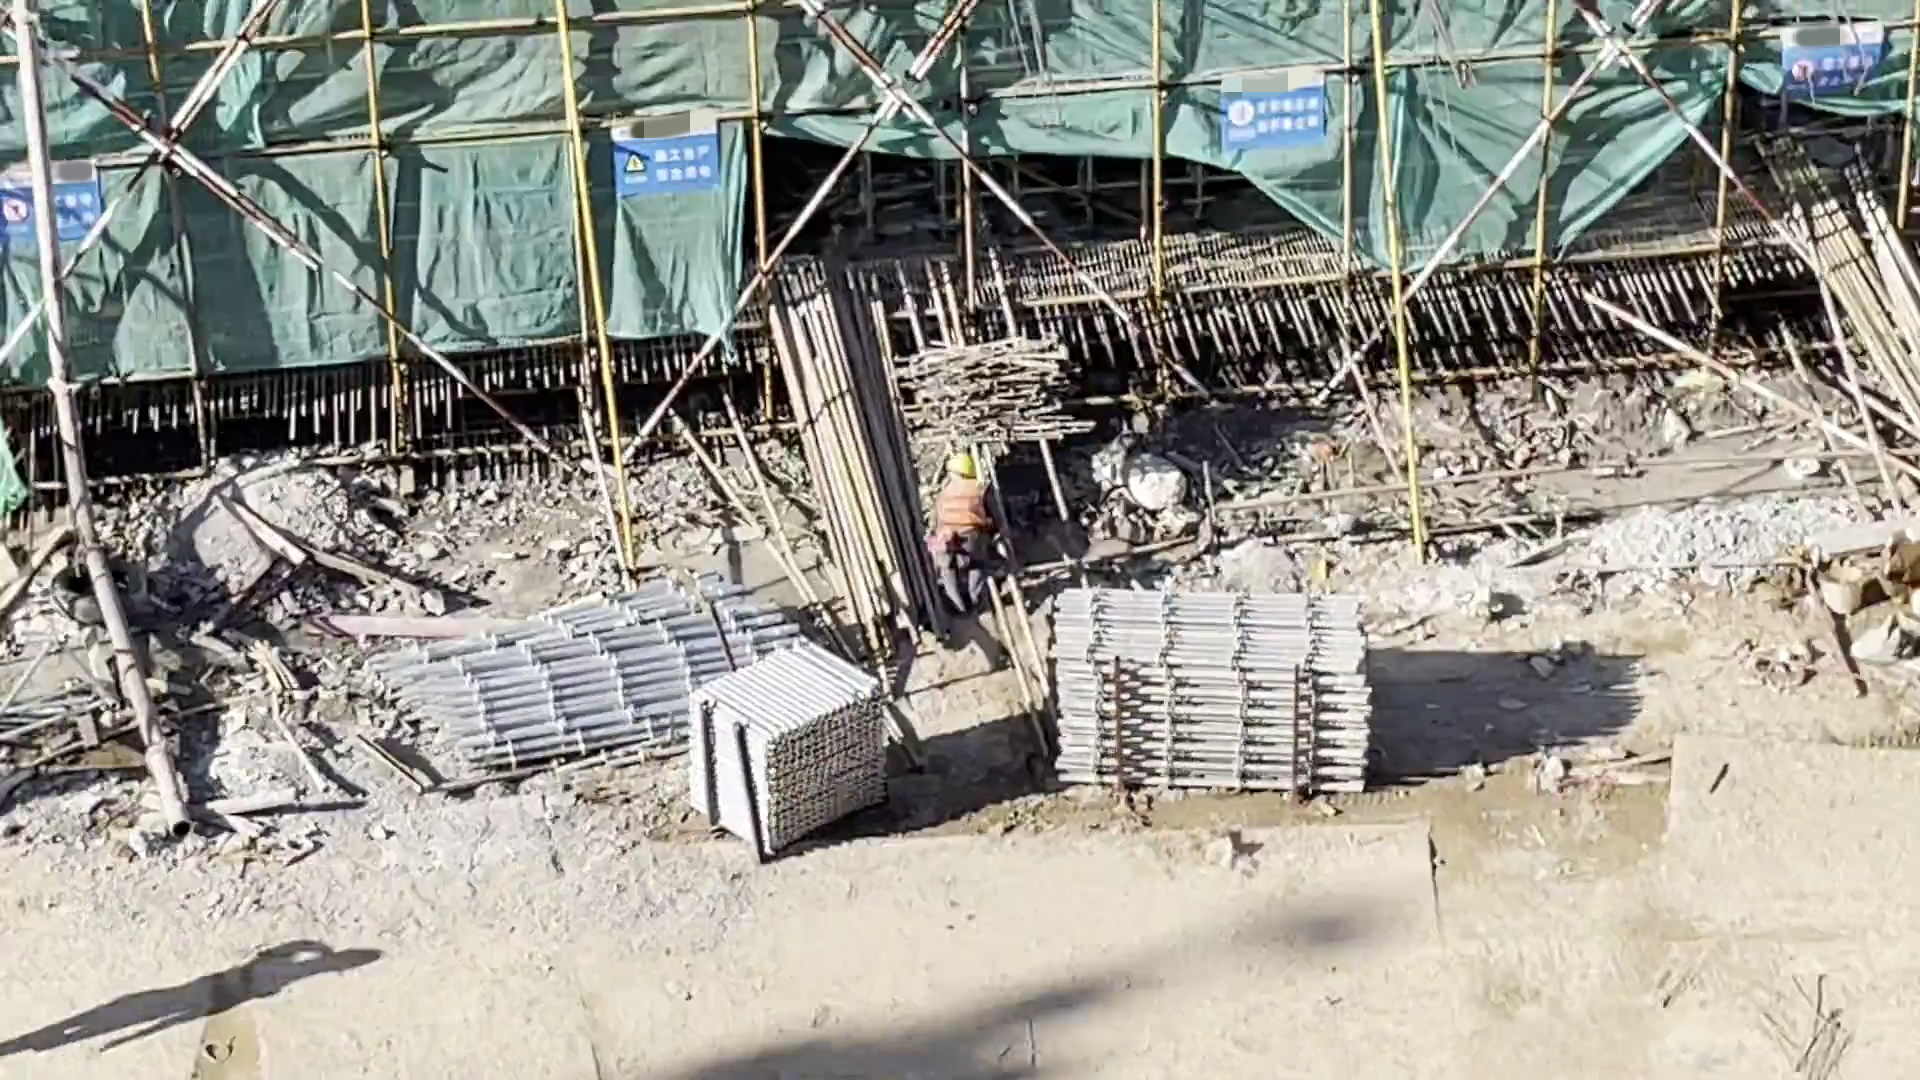helmet: (943, 454, 979, 471)
person: (933, 450, 998, 600)
scaffold: (363, 591, 841, 807), (1023, 587, 1391, 829), (693, 647, 884, 864)
slogan: (623, 126, 736, 197), (14, 177, 119, 236), (1218, 82, 1311, 147), (1789, 41, 1871, 94)
vest: (944, 479, 983, 542)
